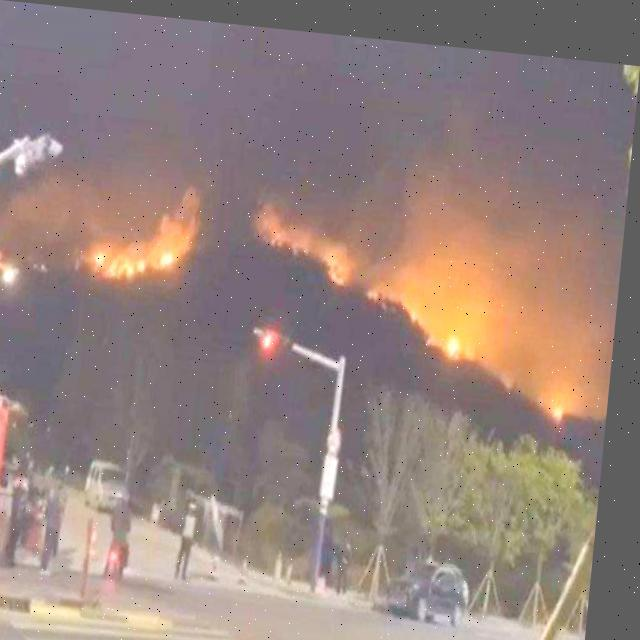Fire: (253, 197, 612, 413), (76, 186, 196, 270)
